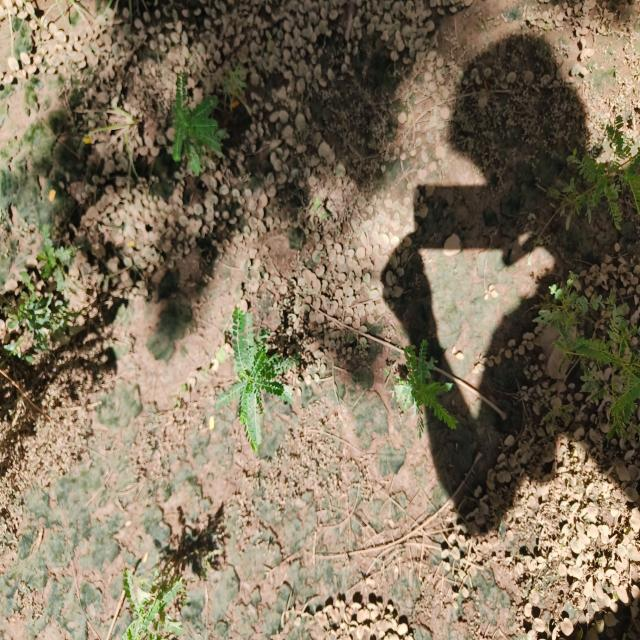weed: (542, 273, 640, 424), (223, 305, 296, 452), (1, 248, 76, 379), (565, 148, 640, 228), (395, 343, 465, 426), (162, 92, 231, 171), (117, 564, 188, 640)
